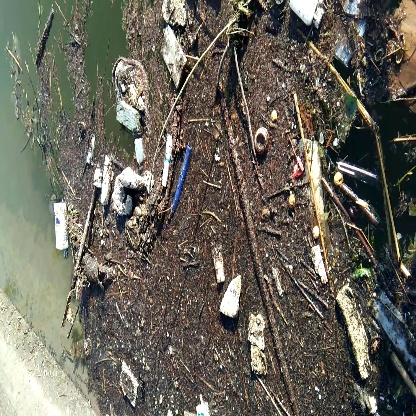branch: (219, 104, 264, 274), (23, 4, 64, 67)
milk-box: (47, 200, 71, 260)
